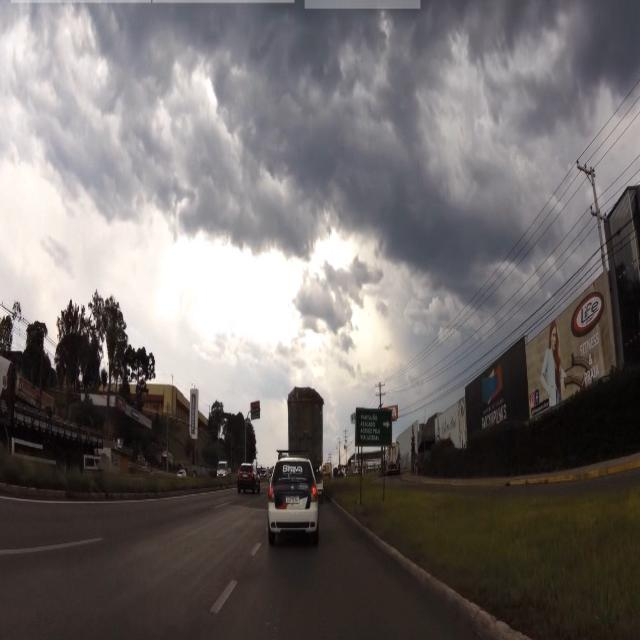I-4: (356, 408, 392, 446)
